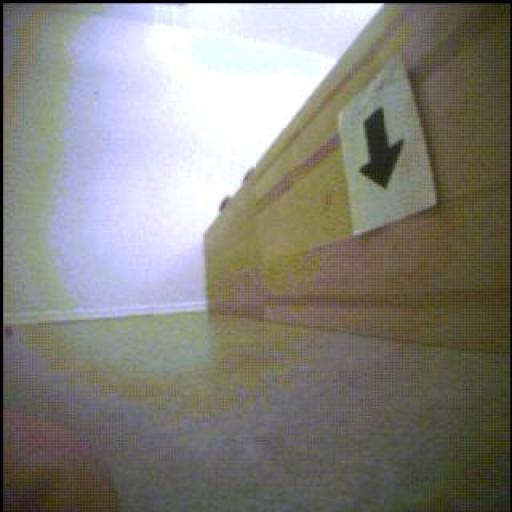Arrow: (361, 110, 404, 190)
